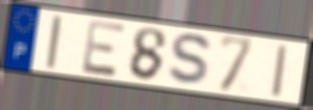7: (218, 33, 257, 96)
8: (129, 27, 169, 82)
E: (80, 17, 129, 79)
I: (44, 14, 64, 71), (271, 43, 290, 100)
S: (165, 31, 216, 88)
